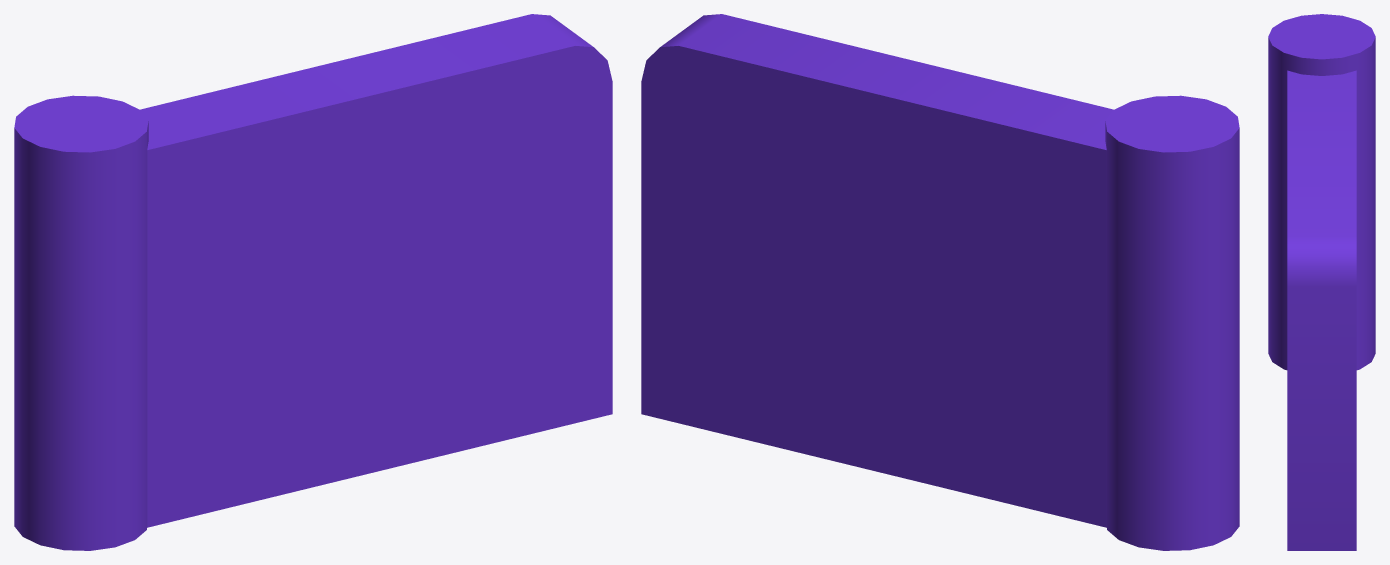
The model's file is door_violet.fbx.
3 renders of one model, left to right at view 1: azimuth 30°, elevation 25°; view 2: azimuth 150°, elevation 25°; view 3: azimuth 270°, elevation 25°, orthographic. The views are drawn at different scales.
Parts seen in each view (by area): view 1: door_violet.002, door_violet; view 2: door_violet.002, door_violet; view 3: door_violet.002, door_violet.
Boxes of the visible parts, x1,y1,x2,y2 form: door_violet.002: (140, 14, 612, 527); door_violet: (14, 95, 148, 550); door_violet.002: (641, 14, 1113, 527); door_violet: (1105, 95, 1239, 550); door_violet.002: (1287, 70, 1356, 550); door_violet: (1268, 14, 1375, 370).
Bounding box in the file's own units: 0.8211 × 0.5504 × 0.1695.
